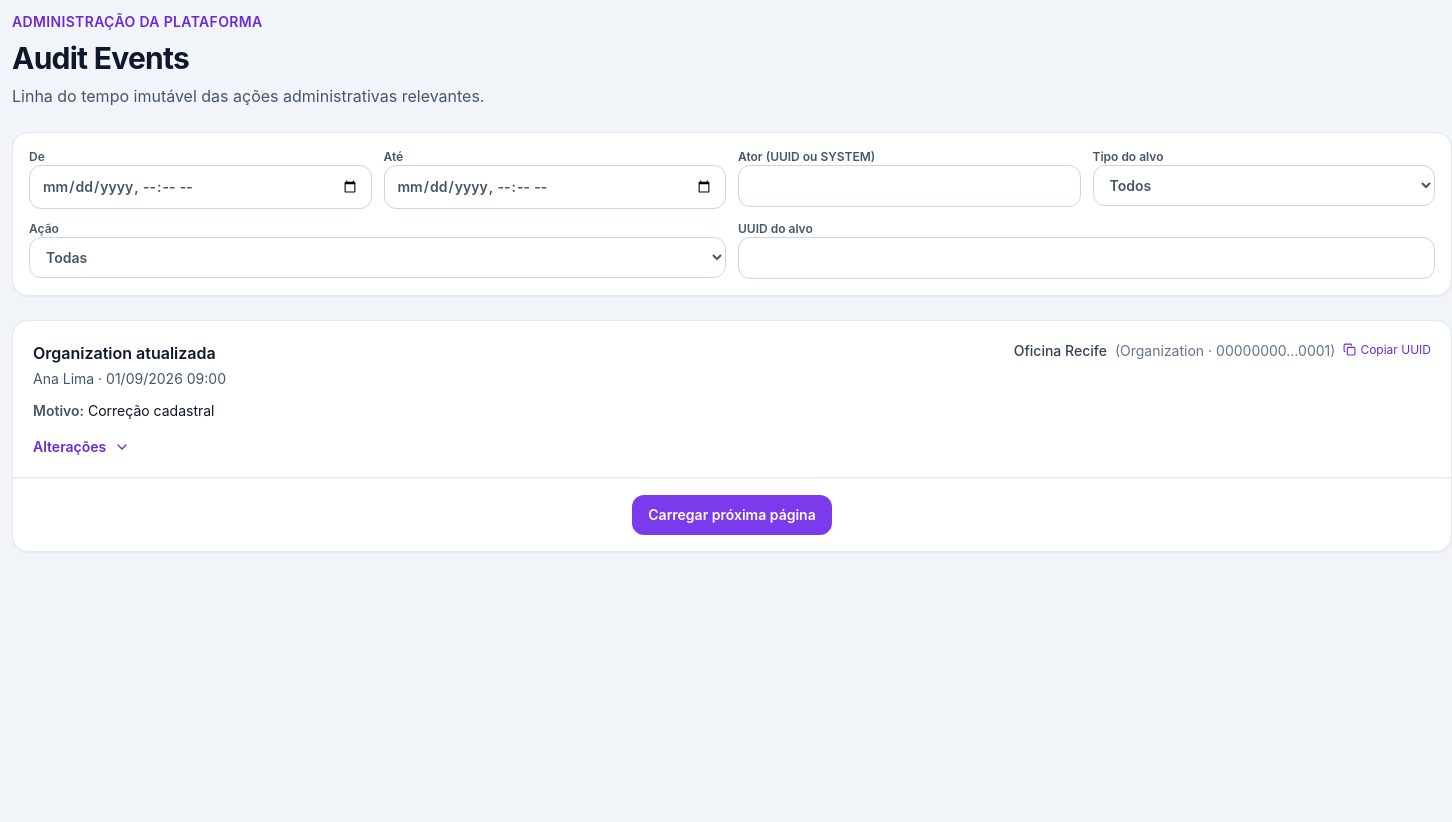
Test: Audit Events › loads the next cursor page without bulk lookups
Expected: the text "Oficina Recife" is shown, [1014,342,1107,359]
Click the button "Carregar próxima página": (732, 515) [632,495,832,535]
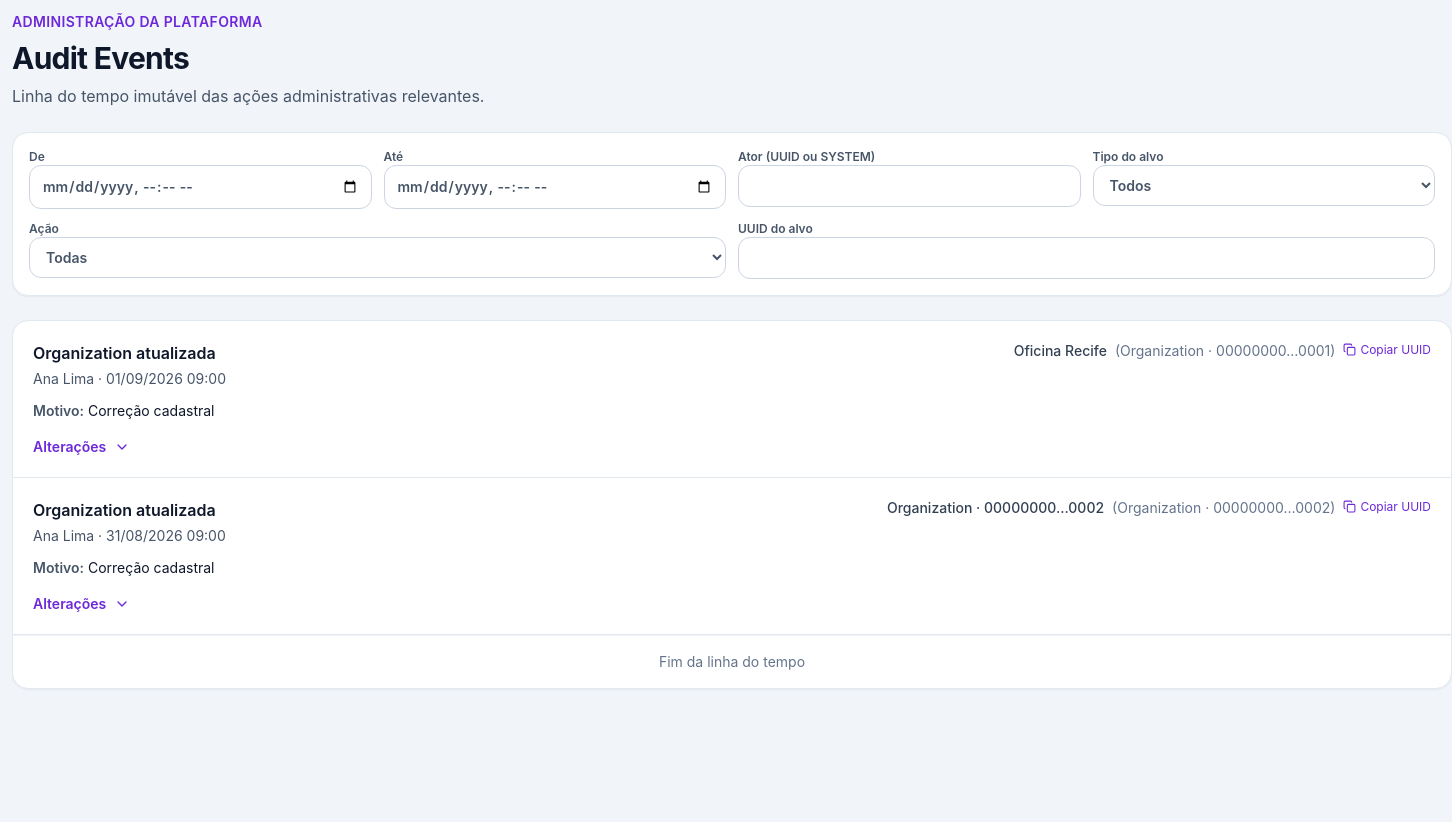
Expected: the 2nd button titled "00000000-0000-4000-8000-000000000002" is shown, [1343,498,1431,514]
